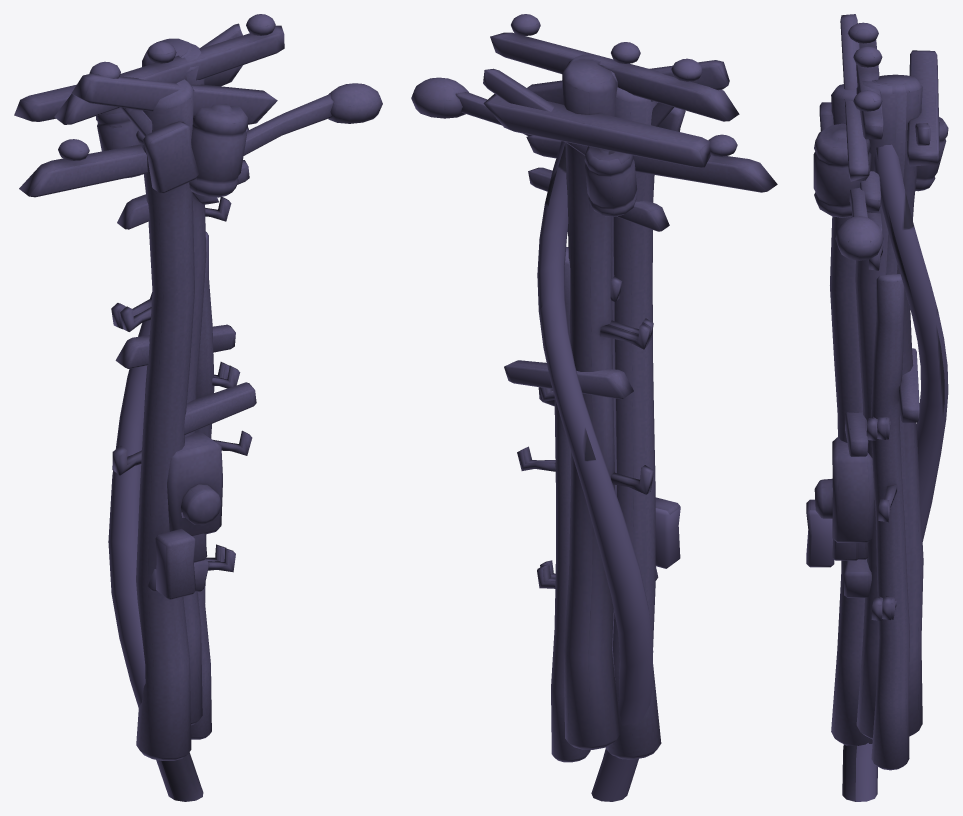
The model's file is telephone_poles.fbx.
3 views of the same model, side by side, from view 1: azimuth 30°, elevation 25°; view 2: azimuth 150°, elevation 25°; view 3: azimuth 270°, elevation 25° (orthographic). The views are drawn at different scales.
Parts seen in each view (by area): view 1: pole5, pole4, pole1, pole2, pole3; view 2: pole4, pole5, pole2, pole3, pole1; view 3: pole4, pole2, pole5, pole1, pole3.
Part boxes in pixels (x1,y1,x2,y2): pole5: (136, 79, 382, 760); pole4: (14, 14, 284, 801); pole1: (71, 23, 277, 725); pole2: (115, 231, 256, 739); pole3: (19, 41, 249, 561); pole4: (483, 14, 739, 801); pole5: (411, 77, 685, 759); pole2: (504, 247, 633, 762); pole3: (526, 58, 777, 581); pole1: (483, 54, 729, 682); pole4: (813, 22, 948, 801); pole2: (845, 274, 919, 770); pole5: (806, 84, 883, 745); pole1: (832, 14, 930, 739); pole3: (858, 76, 909, 619).
Size of the model in its own units: 0.0478 by 0.0971 by 0.0169.
1 material, 1 textured.
